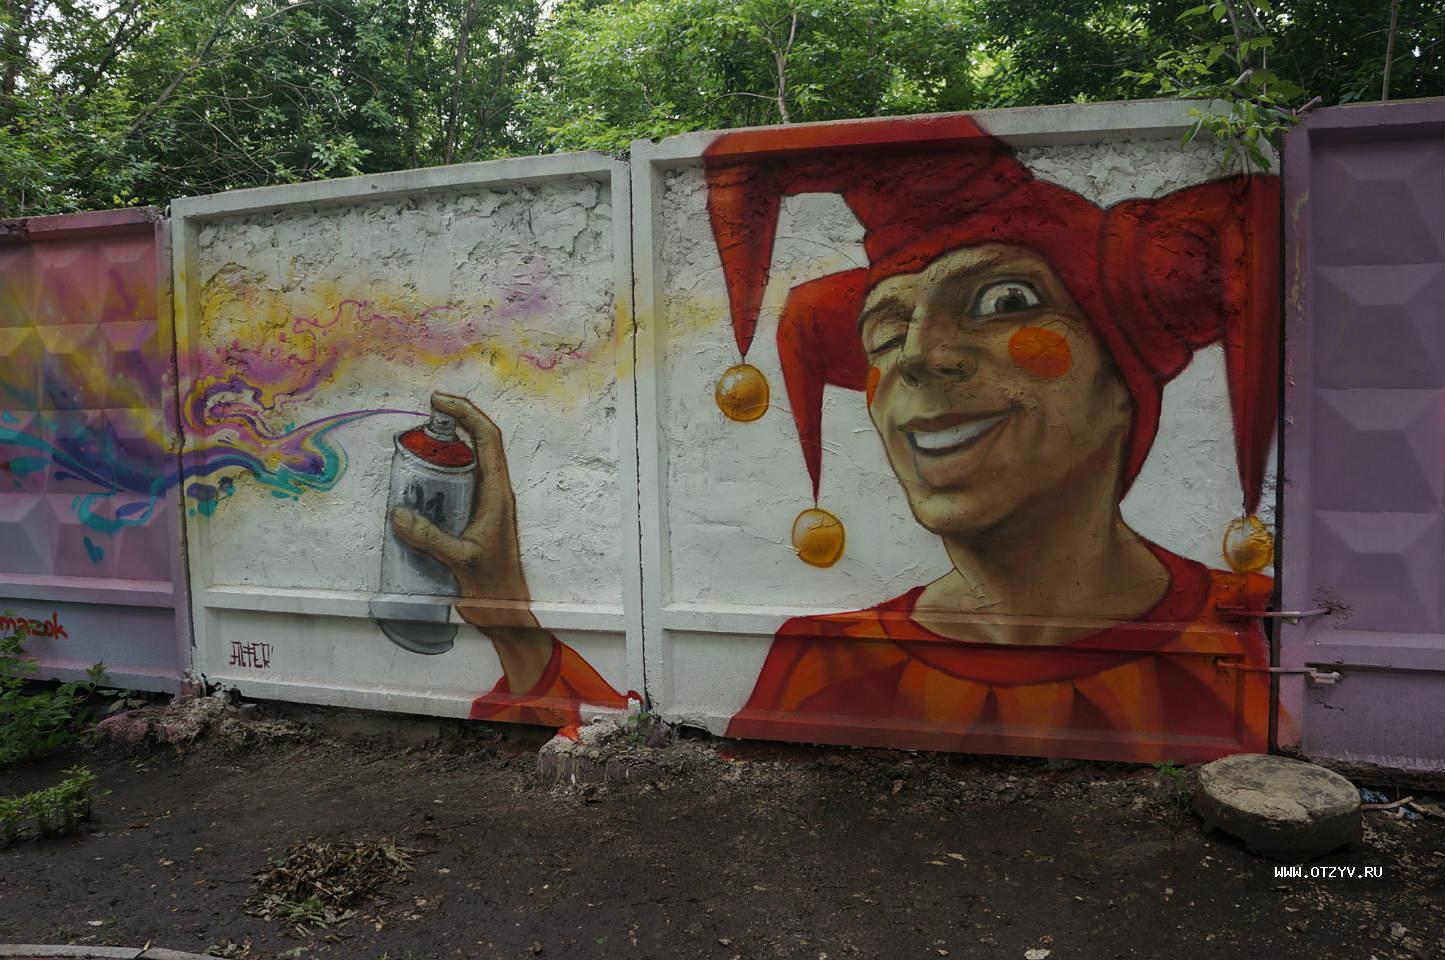graphite: (684, 131, 1320, 762), (39, 341, 657, 731), (226, 632, 295, 689)
